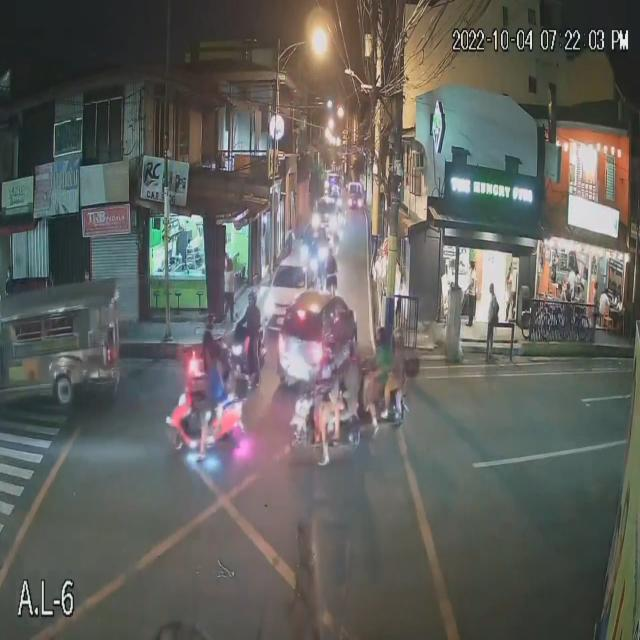Full-Faced: (318, 340, 338, 372), (343, 339, 357, 370), (245, 287, 261, 313), (370, 323, 385, 349), (388, 328, 403, 351), (203, 312, 216, 334)
Not-Wearing-Helmet: (201, 344, 216, 367)
